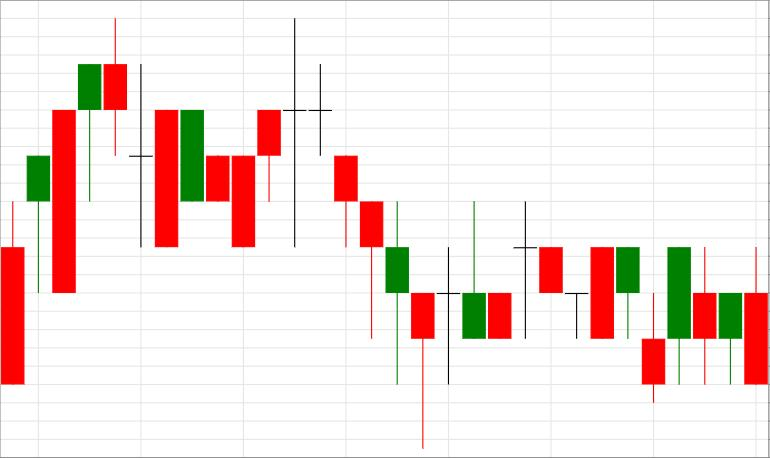hammer_rise: (283, 18, 435, 449)
